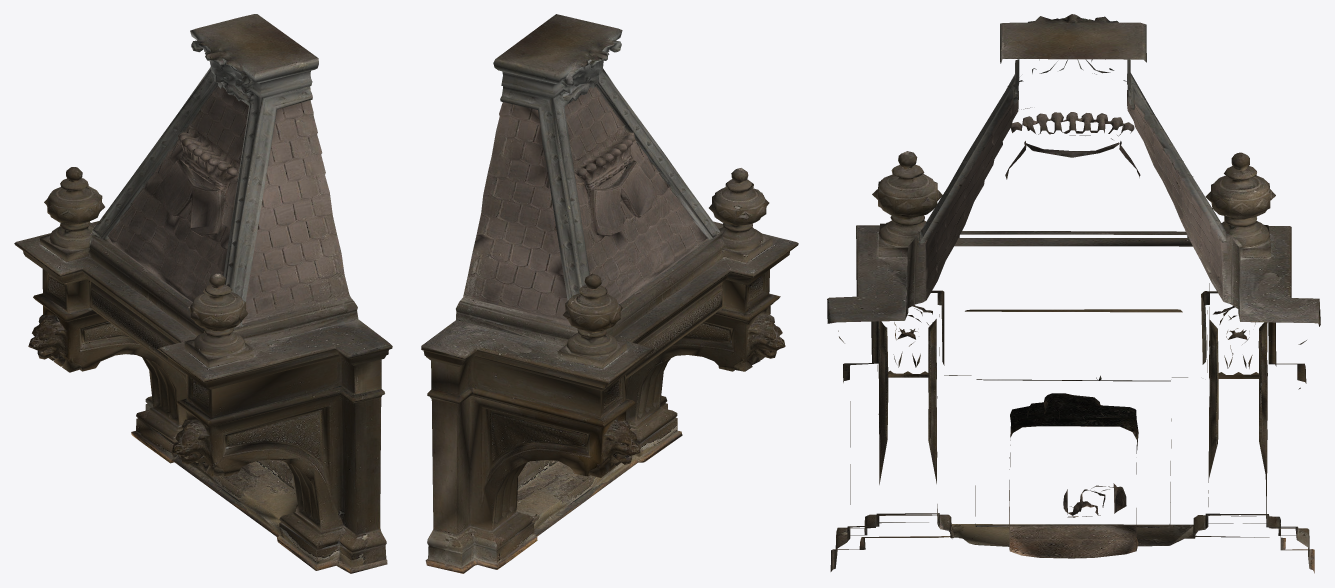
File: victorian-details.glb
The picture shows the model from 3 angles, left to right: view 1: azimuth 30°, elevation 25°; view 2: azimuth 150°, elevation 25°; view 3: azimuth 270°, elevation 25°; orthographic projection. The views are drawn at different scales.
Visible parts, largest first — view 1: fireplace|7; view 2: fireplace|7; view 3: fireplace|7.
Part boxes in pixels (x1,y1,x2,y2): fireplace|7: [14, 14, 392, 573]; fireplace|7: [421, 14, 798, 573]; fireplace|7: [827, 14, 1320, 573].
Size of the model in its own units: 0.8653 by 1.47 by 1.26.
Materials: 1 (1 with a texture image).
